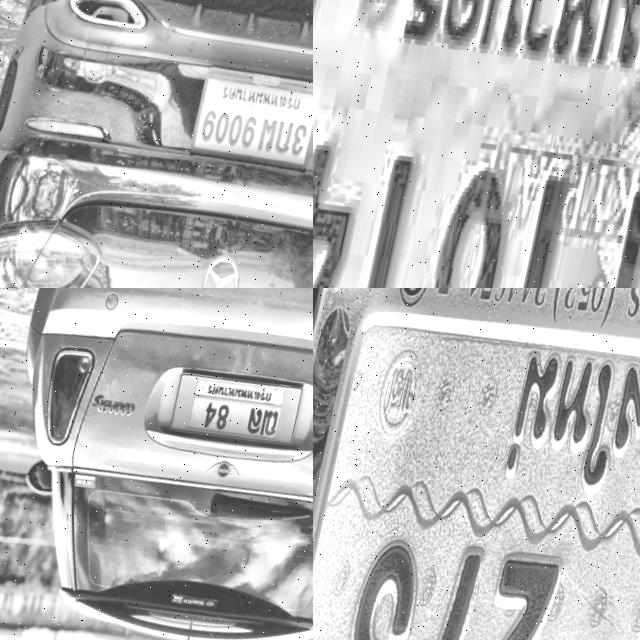license-plate: (313, 288, 640, 640), (313, 0, 640, 288), (183, 58, 313, 192), (161, 364, 304, 471)
